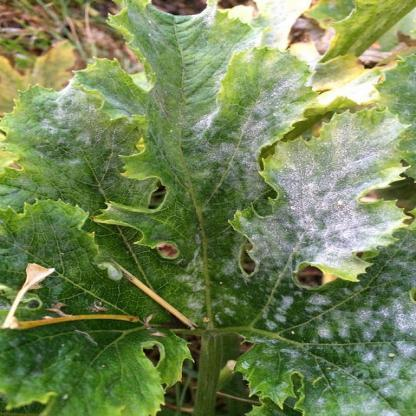Squash Powdery mildew leaf: (105, 0, 324, 281), (226, 103, 408, 290), (1, 62, 122, 218)
